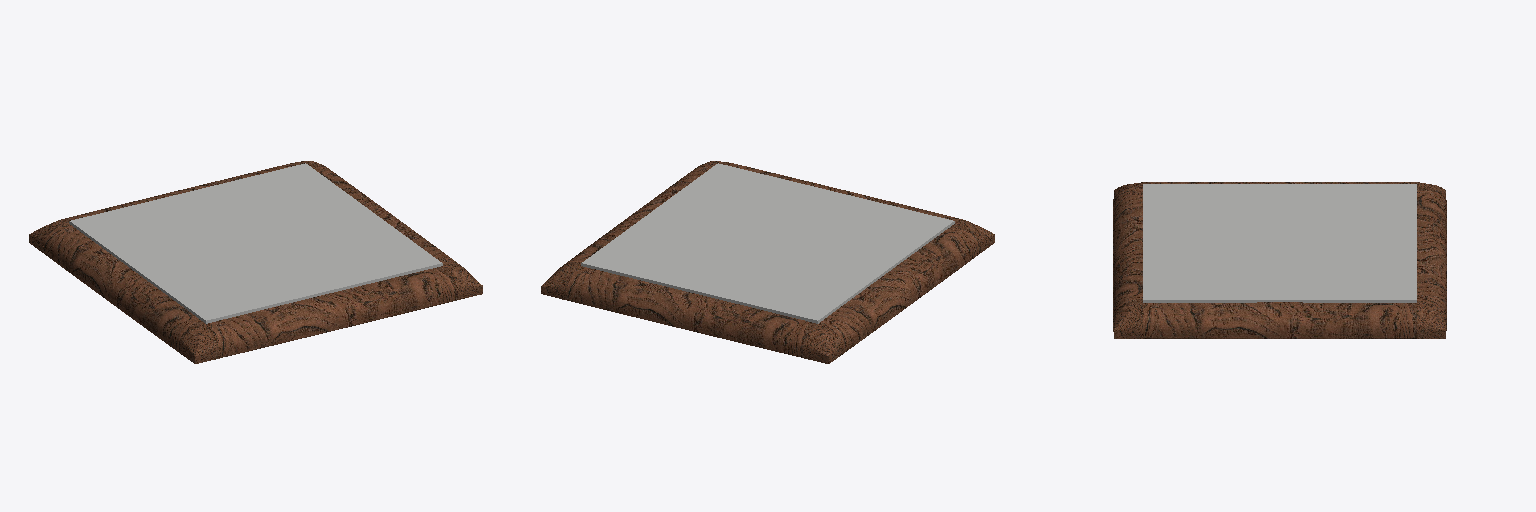
The picture shows the model from 3 angles: view 1: azimuth 30°, elevation 25°; view 2: azimuth 150°, elevation 25°; view 3: azimuth 270°, elevation 25°; orthographic projection.
Visible parts, largest first — view 1: s.0073, p.0109, s.0112; view 2: s.0073, p.0109, s.0112; view 3: s.0073, p.0109, s.0112.
Part boxes in pixels (x1,y1,x2,y2): s.0073: (69,163,442,323); p.0109: (43,162,459,357); s.0112: (29,161,482,363); s.0073: (581,163,954,323); p.0109: (563,162,980,357); s.0112: (541,161,994,363); s.0073: (1143,184,1416,302); p.0109: (1113,182,1446,338); s.0112: (1113,182,1446,338).
Size of the model in its own units: 0.9519 by 0.088 by 0.9519.
Materials: 2 (2 with a texture image).